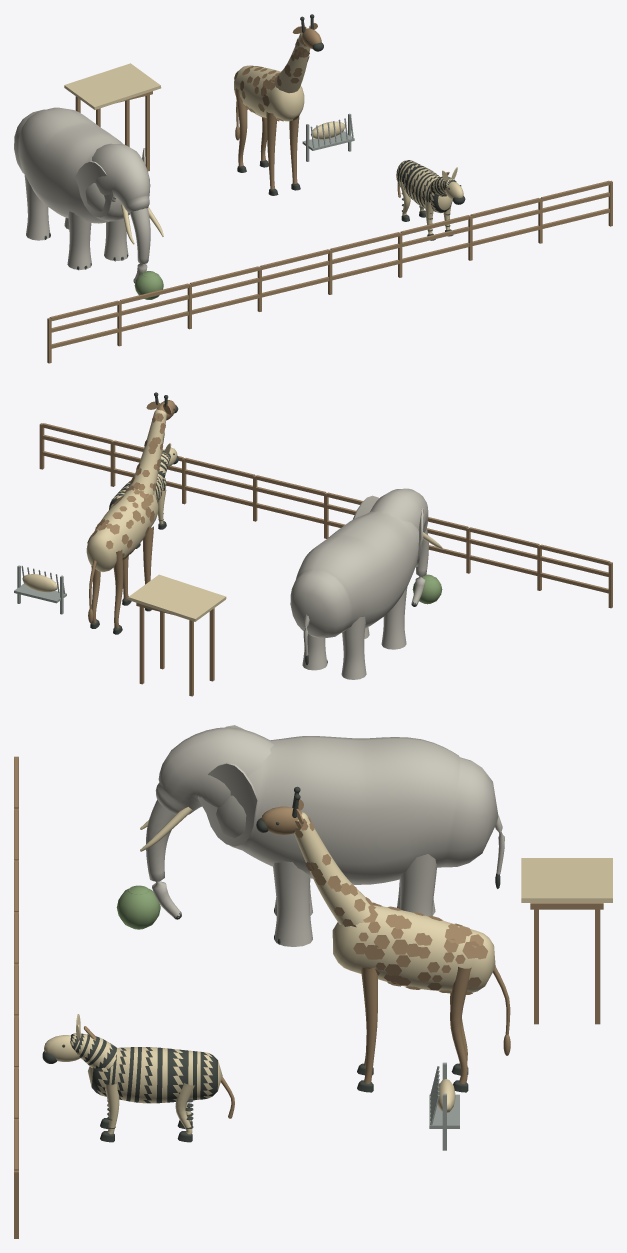
Rendered from zoo-and-safari-park-builder-savanna-padd-6c7f314d-starter-scene__21524.glb.
The picture shows the model from 3 angles, top to bottom: view 1: azimuth 30°, elevation 25°; view 2: azimuth 150°, elevation 25°; view 3: azimuth 270°, elevation 25°; orthographic projection. The views are drawn at different scales.
Parts seen in each view (by area): view 1: 000-african-elephant-bull/0, 001-reticulated-giraffe/0, 003-shade-shelter/1, 001-reticulated-giraffe/2, 002-plains-zebra/0, 006-timber-rail-straight/0, 008-timber-rail-straight/0, 012-timber-rail-straight/0, 009-timber-rail-straight/0, 013-timber-rail-straight/0, 011-timber-rail-straight/0, 010-timber-rail-straight/0 (+6 smaller); view 2: 000-african-elephant-bull/0, 001-reticulated-giraffe/0, 003-shade-shelter/1, 001-reticulated-giraffe/2, 001-reticulated-giraffe/1, 003-shade-shelter/0, 013-timber-rail-straight/0, 006-timber-rail-straight/0, 011-timber-rail-straight/0, 010-timber-rail-straight/0, 007-timber-rail-straight/0, 012-timber-rail-straight/0 (+7 smaller); view 3: 000-african-elephant-bull/0, 001-reticulated-giraffe/0, 002-plains-zebra/0, 001-reticulated-giraffe/1, 002-plains-zebra/1, 003-shade-shelter/1, 001-reticulated-giraffe/2, 003-shade-shelter/0, 005-enrichment-ball/0, 004-hay-rack/0.
Boxes of the visible parts, left/top/right/bottom form: 000-african-elephant-bull/0: left=14, top=107, right=150, bottom=282; 001-reticulated-giraffe/0: left=234, top=32, right=310, bottom=121; 003-shade-shelter/1: left=64, top=63, right=161, bottom=109; 001-reticulated-giraffe/2: left=235, top=23, right=321, bottom=189; 002-plains-zebra/0: left=396, top=160, right=463, bottom=234; 006-timber-rail-straight/0: left=47, top=300, right=121, bottom=363; 008-timber-rail-straight/0: left=187, top=266, right=261, bottom=329; 012-timber-rail-straight/0: left=468, top=198, right=542, bottom=260; 009-timber-rail-straight/0: left=257, top=249, right=332, bottom=311; 013-timber-rail-straight/0: left=538, top=180, right=612, bottom=243; 011-timber-rail-straight/0: left=398, top=215, right=471, bottom=277; 010-timber-rail-straight/0: left=328, top=232, right=401, bottom=294; 000-african-elephant-bull/0: left=290, top=488, right=428, bottom=679; 001-reticulated-giraffe/0: left=86, top=409, right=166, bottom=571; 003-shade-shelter/1: left=128, top=574, right=226, bottom=621; 001-reticulated-giraffe/2: left=89, top=400, right=175, bottom=628; 001-reticulated-giraffe/1: left=87, top=413, right=165, bottom=559; 003-shade-shelter/0: left=136, top=603, right=214, bottom=696; 013-timber-rail-straight/0: left=39, top=423, right=115, bottom=486; 006-timber-rail-straight/0: left=537, top=544, right=612, bottom=608; 011-timber-rail-straight/0: left=182, top=458, right=257, bottom=521; 010-timber-rail-straight/0: left=253, top=475, right=328, bottom=538; 007-timber-rail-straight/0: left=466, top=527, right=541, bottom=590; 012-timber-rail-straight/0: left=110, top=440, right=186, bottom=504; 000-african-elephant-bull/0: left=146, top=725, right=504, bottom=946; 001-reticulated-giraffe/0: left=294, top=812, right=495, bottom=992; 002-plains-zebra/0: left=44, top=1014, right=222, bottom=1134; 001-reticulated-giraffe/1: left=294, top=817, right=487, bottom=994; 002-plains-zebra/1: left=70, top=1033, right=217, bottom=1128; 003-shade-shelter/1: left=521, top=858, right=612, bottom=902; 001-reticulated-giraffe/2: left=261, top=799, right=510, bottom=1083; 003-shade-shelter/0: left=530, top=903, right=603, bottom=1024; 005-enrichment-ball/0: left=116, top=885, right=160, bottom=929; 004-hay-rack/0: left=429, top=1062, right=459, bottom=1150.
Bounding box in the file's own units: 16.08 × 5.27 × 9.79.
